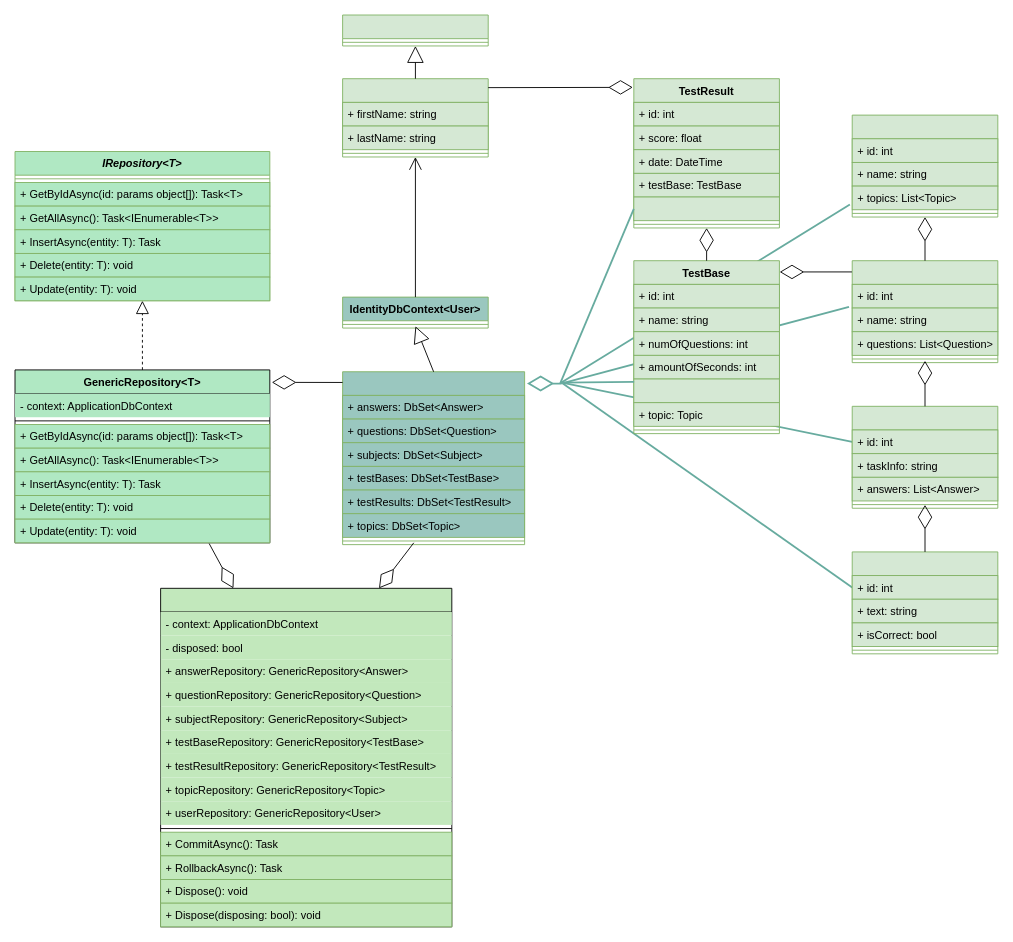
This 1013x942 diagram has some shape labels left out. The shapes that lost their labels are listed below. From the top down, each one's box as (x1, y1, x2, y2) in pixels, then its label:
(342, 14, 488, 46): IdentityUser
(342, 78, 488, 157): User
(851, 114, 998, 217): Subject
(633, 196, 779, 221): + studentUser: User
(851, 260, 998, 363): Topic
(633, 378, 779, 403): + numOfTries: int
(342, 371, 525, 545): ApplicationDbContext
(851, 405, 998, 508): Question
(851, 551, 998, 654): Answer
(160, 587, 452, 927): UnitOfWork
